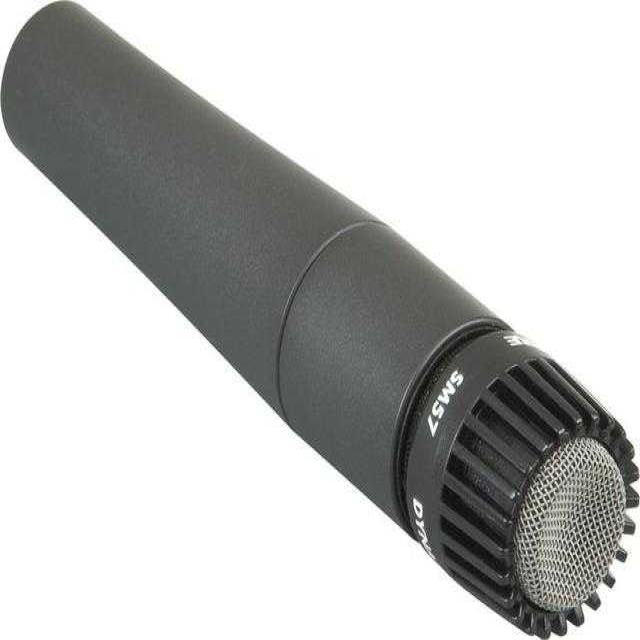microphone: (6, 12, 630, 622)
